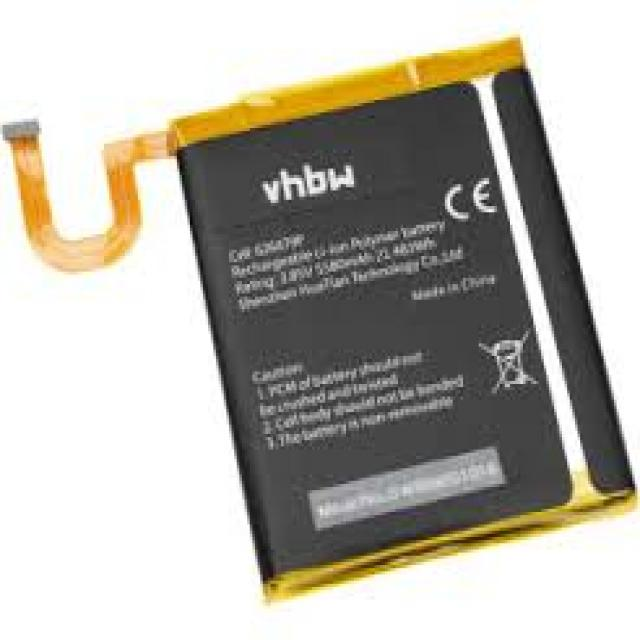non-organic waste: (0, 36, 637, 595)
